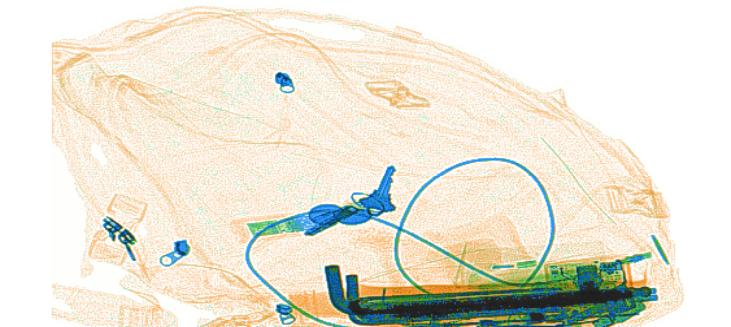USBFlashDisk: (234, 208, 323, 242)
